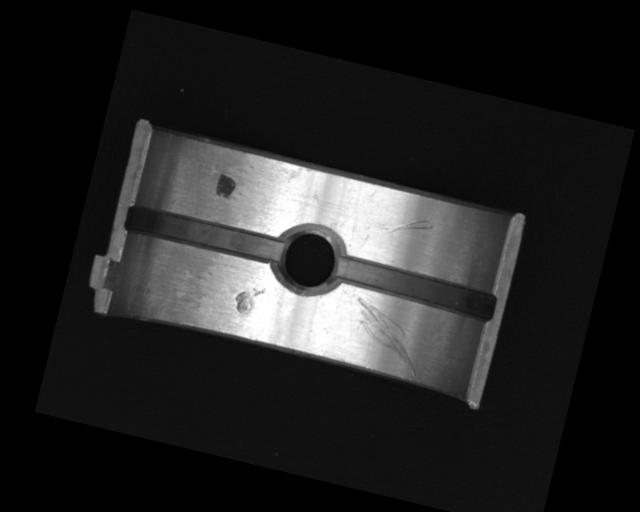blot: (213, 171, 238, 200)
bruise: (231, 282, 265, 318)
gap: (331, 252, 500, 324), (124, 202, 286, 266)
hole: (265, 217, 350, 303)
nick: (342, 296, 431, 375), (378, 208, 434, 245)
